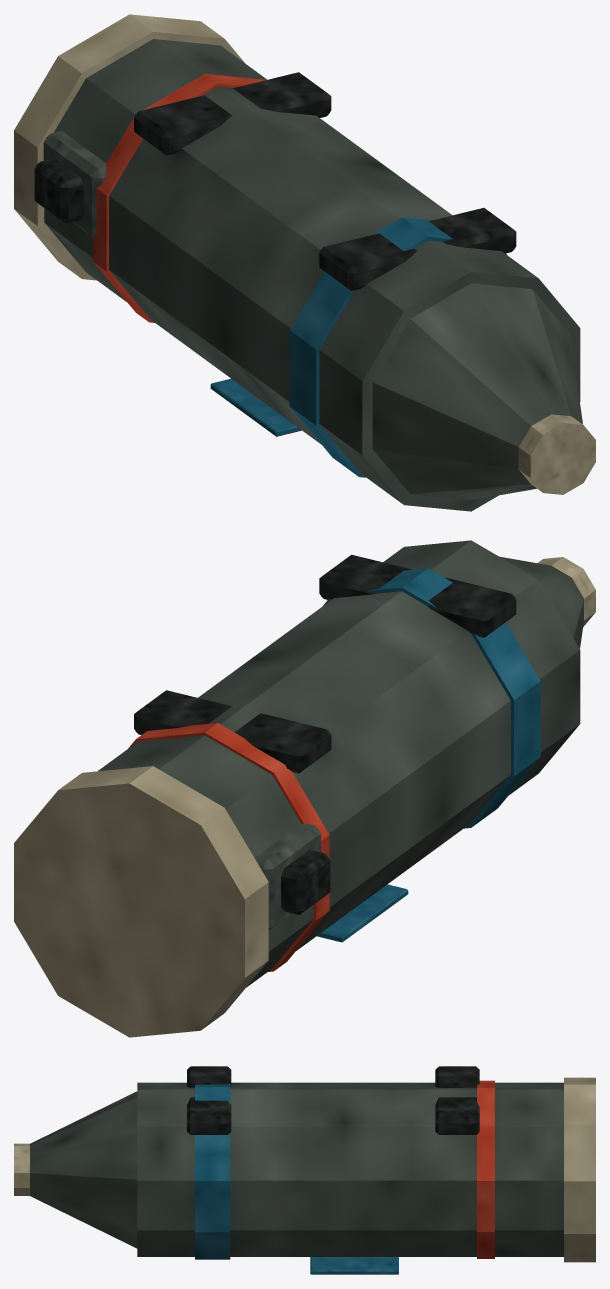
File: DR_SealedPayload.fbx
3 views of the same model, one above another, from view 1: azimuth 30°, elevation 25°; view 2: azimuth 150°, elevation 25°; view 3: azimuth 270°, elevation 25° (orthographic). The views are drawn at different scales.
Parts seen in each view (by area): view 1: PayloadFacetedBody, PayloadBluntNose, PayloadRearClosure, PayloadIdentificationBand, PayloadRetentionContact.1, PayloadRetentionContact.-1, PayloadNoseCap, PayloadWarningBand, PayloadHarnessPortFlange, PayloadHarnessPort, PayloadInertLabel; view 2: PayloadFacetedBody, PayloadRearClosure, PayloadIdentificationBand, PayloadRetentionContact.1, PayloadRetentionContact.-1, PayloadWarningBand, PayloadHarnessPortFlange, PayloadHarnessPort, PayloadBluntNose, PayloadInertLabel, PayloadNoseCap; view 3: PayloadFacetedBody, PayloadBluntNose, PayloadRearClosure, PayloadIdentificationBand, PayloadWarningBand, PayloadRetentionContact.1, PayloadRetentionContact.-1, PayloadInertLabel, PayloadNoseCap.
Part boxes in pixels (x1,y1,x2,y2): PayloadFacetedBody: (44, 39, 580, 511); PayloadBluntNose: (372, 283, 582, 500); PayloadRearClosure: (14, 14, 244, 280); PayloadIdentificationBand: (289, 217, 507, 477); PayloadRetentionContact.1: (134, 72, 331, 155); PayloadRetentionContact.-1: (319, 208, 516, 290); PayloadNoseCap: (518, 414, 595, 494); PayloadWarningBand: (93, 74, 266, 322); PayloadHarnessPortFlange: (43, 131, 106, 237); PayloadHarnessPort: (34, 158, 83, 223); PayloadInertLabel: (210, 378, 301, 436); PayloadFacetedBody: (98, 540, 580, 987); PayloadRearClosure: (14, 766, 268, 1037); PayloadIdentificationBand: (322, 568, 540, 828); PayloadRetentionContact.1: (134, 690, 331, 773); PayloadRetentionContact.-1: (319, 554, 516, 637); PayloadWarningBand: (128, 723, 329, 971); PayloadHarnessPortFlange: (254, 823, 320, 930); PayloadHarnessPort: (281, 849, 330, 914); PayloadBluntNose: (500, 557, 583, 648); PayloadInertLabel: (317, 884, 408, 942); PayloadNoseCap: (537, 557, 595, 626); PayloadFacetedBody: (137, 1082, 563, 1256); PayloadBluntNose: (30, 1091, 137, 1248); PayloadRearClosure: (564, 1077, 595, 1262); PayloadIdentificationBand: (195, 1084, 230, 1259); PayloadWarningBand: (477, 1080, 494, 1258); PayloadRetentionContact.1: (435, 1066, 479, 1134); PayloadRetentionContact.-1: (187, 1066, 231, 1134); PayloadInertLabel: (310, 1257, 398, 1274); PayloadNoseCap: (14, 1143, 29, 1195).
Bounding box in the file's own units: 1.09 × 1.06 × 3.28.
Materials: 1 (1 with a texture image).
